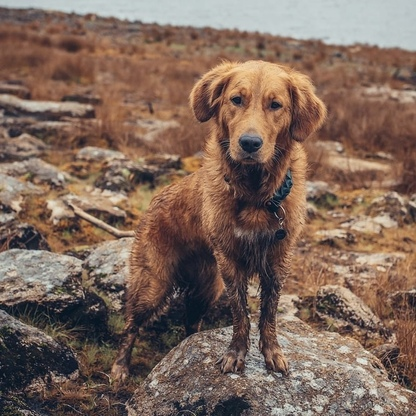labrado: (108, 56, 329, 391)
